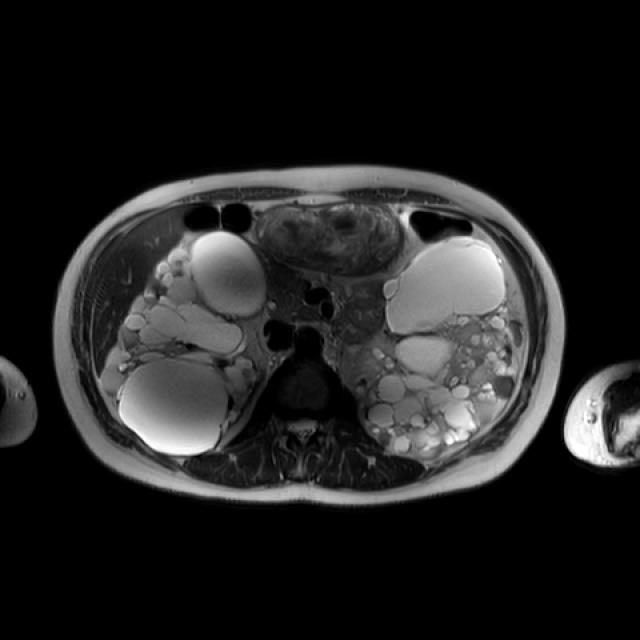sag: (102, 231, 268, 454)
sol: (351, 238, 526, 455)
